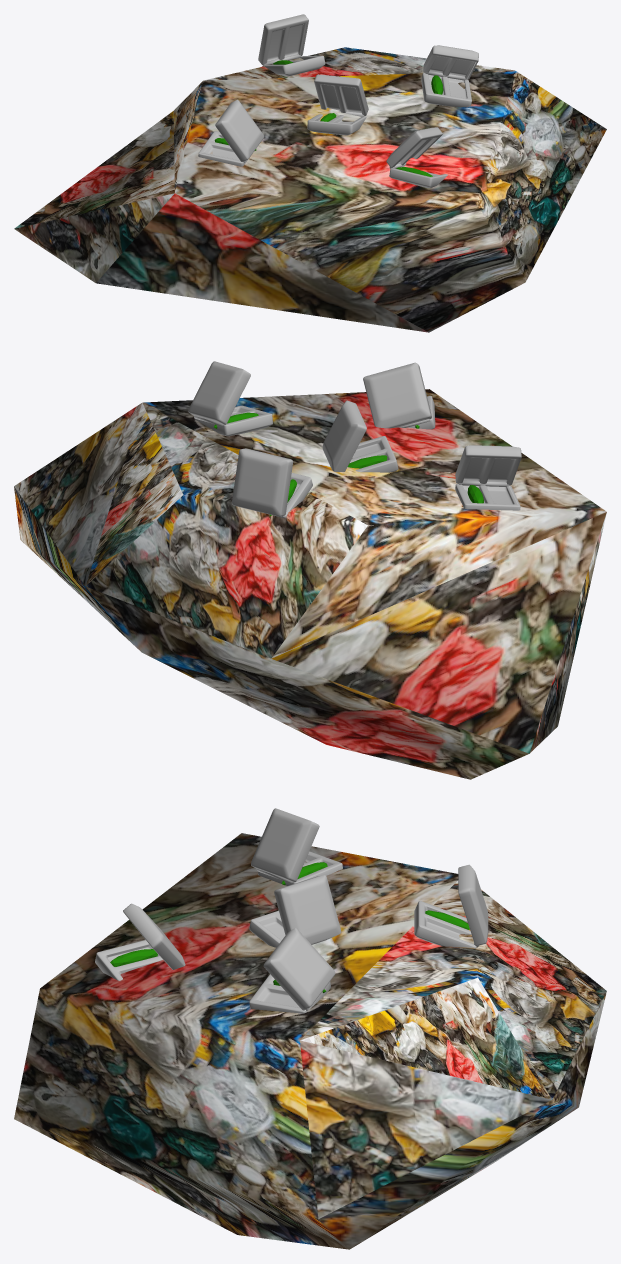
File: CHECKSKRALD8.fbx
3 views of the same model, one above another, from view 1: azimuth 30°, elevation 25°; view 2: azimuth 150°, elevation 25°; view 3: azimuth 270°, elevation 25° (orthographic). The views are drawn at different scales.
Parts seen in each view (by area): view 1: Icosphere; view 2: Icosphere; view 3: Icosphere.
Part boxes in pixels (x1=…): Icosphere: x1=14, y1=14, x2=606, y2=332; Icosphere: x1=14, y1=361, x2=606, y2=779; Icosphere: x1=14, y1=808, x2=606, y2=1249.
Bounding box in the file's own units: 139 × 53.78 × 107.
Materials: 3 (1 with a texture image).
